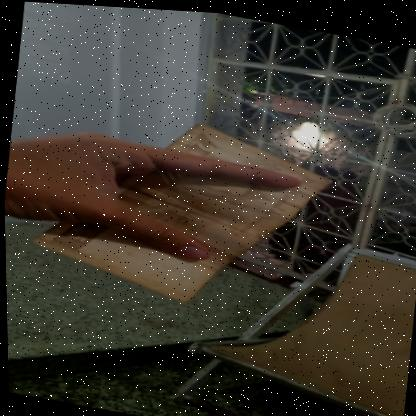vef_back: (25, 93, 339, 324)
